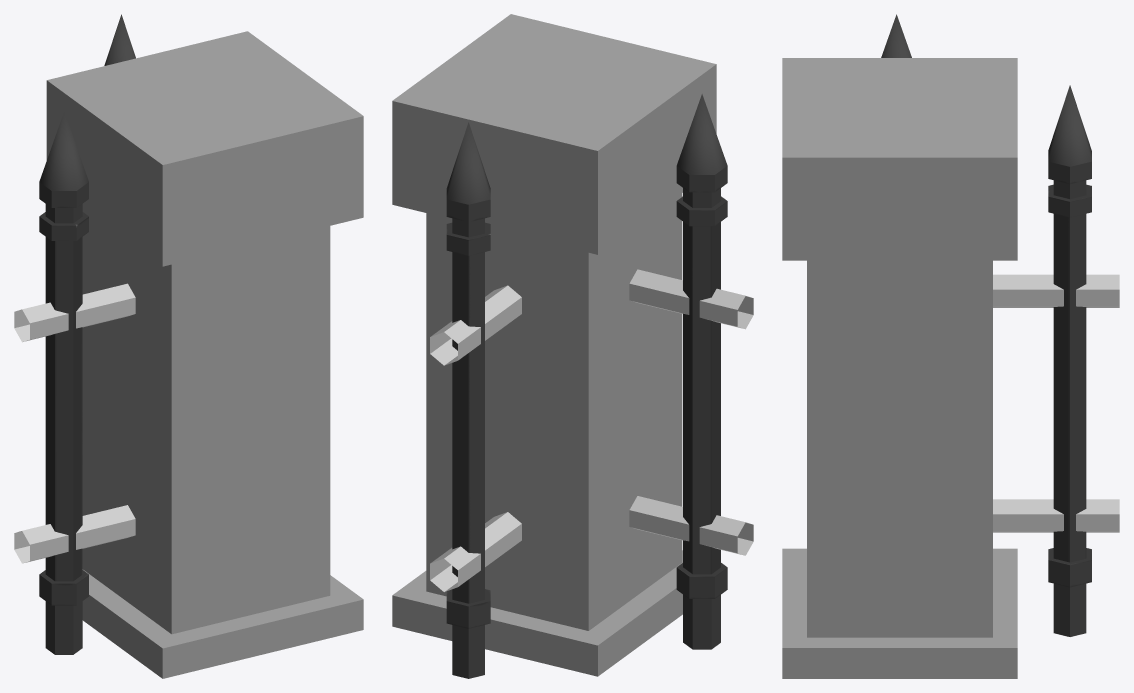
Rendered from Fence_Corner_Block.fbx.
The picture shows the model from 3 angles, left to right: view 1: azimuth 30°, elevation 25°; view 2: azimuth 150°, elevation 25°; view 3: azimuth 270°, elevation 25°; orthographic projection. The views are drawn at different scales.
Visible parts, largest first — view 1: polySurface101; view 2: polySurface101; view 3: polySurface101.
Part boxes in pixels (<box>): polySurface101: <box>14,14,363,678</box>; polySurface101: <box>392,14,753,678</box>; polySurface101: <box>782,14,1119,678</box>.
Size of the model in its own units: 67.5 by 121 by 68.06.
